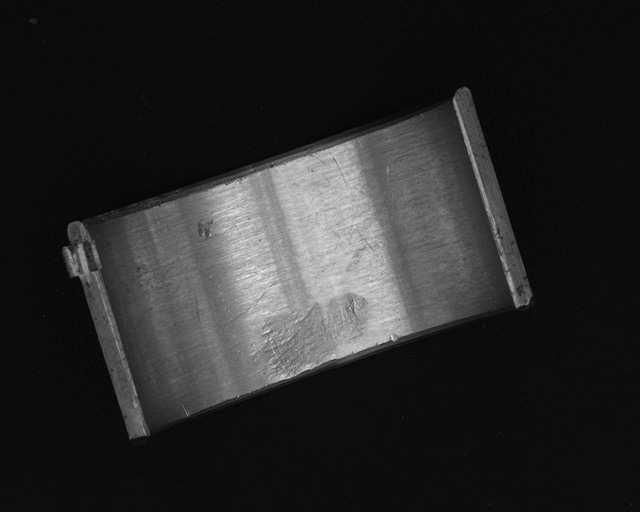blot: (332, 217, 386, 277)
bruise: (196, 218, 216, 240), (388, 333, 402, 343)
nick: (179, 404, 189, 418)
scratch: (248, 291, 369, 379)
